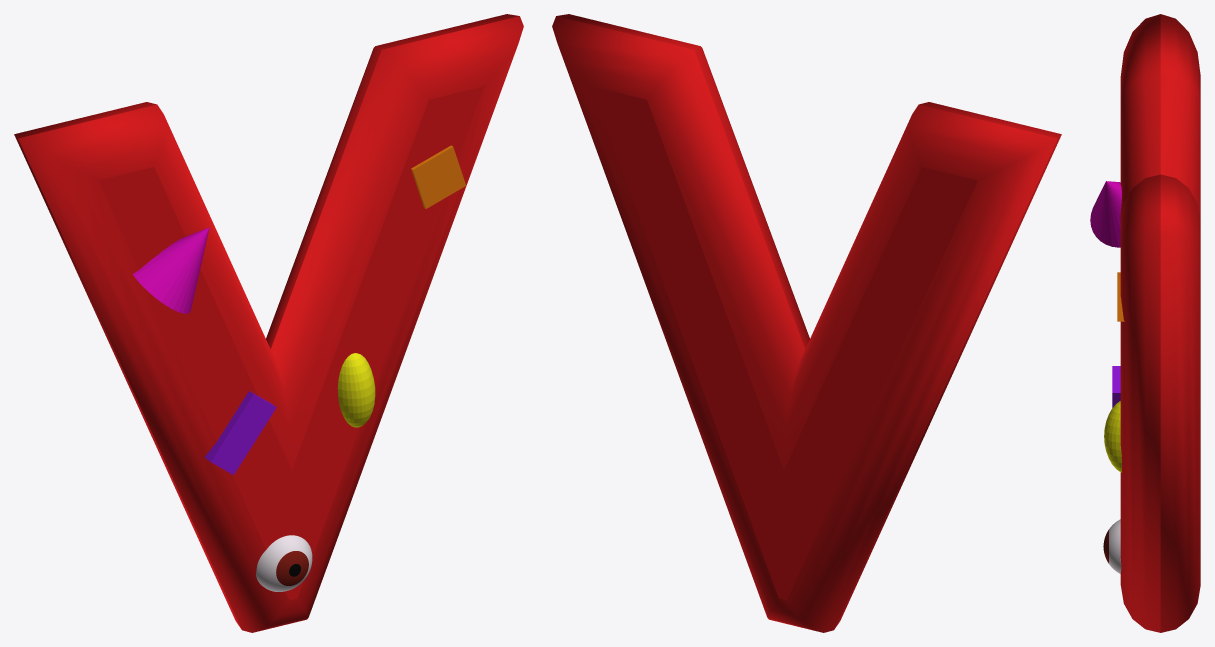
3 views of the same model, side by side, from view 1: azimuth 30°, elevation 25°; view 2: azimuth 150°, elevation 25°; view 3: azimuth 270°, elevation 25° (orthographic). The views are drawn at different scales.
Parts seen in each view (by area): view 1: Text, Cone, Cube.001, Sphere, Sphere.002, Cube; view 2: Text; view 3: Text, Cone, Sphere.002, Sphere, Cube.001, Cube.
Boxes of the visible parts, x1=… form: Text: x1=14, y1=14, x2=523, y2=632; Cone: x1=132, y1=227, x2=209, y2=313; Cube.001: x1=204, y1=391, x2=276, y2=475; Sphere: x1=256, y1=535, x2=312, y2=591; Sphere.002: x1=337, y1=353, x2=375, y2=427; Cube: x1=411, y1=145, x2=466, y2=208; Text: x1=552, y1=14, x2=1061, y2=632; Text: x1=1120, y1=14, x2=1200, y2=632; Cone: x1=1090, y1=181, x2=1121, y2=247; Sphere.002: x1=1104, y1=401, x2=1121, y2=472; Sphere: x1=1103, y1=519, x2=1121, y2=573; Cube.001: x1=1112, y1=366, x2=1120, y2=407; Cube: x1=1117, y1=272, x2=1124, y2=321.
Bounding box in the file's own units: 76.11 × 79.2 × 16.03.
